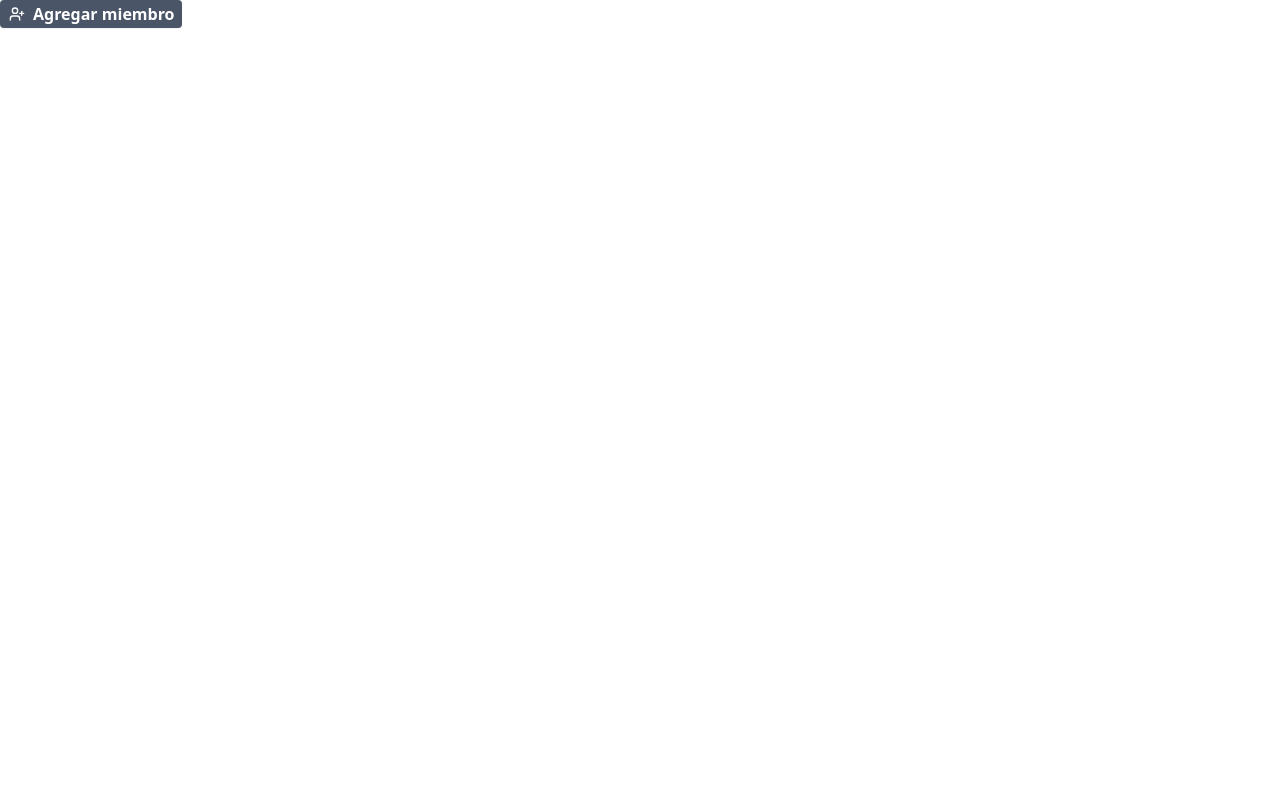
Scenario: AddMemberDialog › closes the modal and refreshes when a member already on the team gets a role update
This screenshot has width=1280, height=800.
Step 1. Click the button "Agregar miembro" → coordinates (91, 14), box [0,0,182,28]
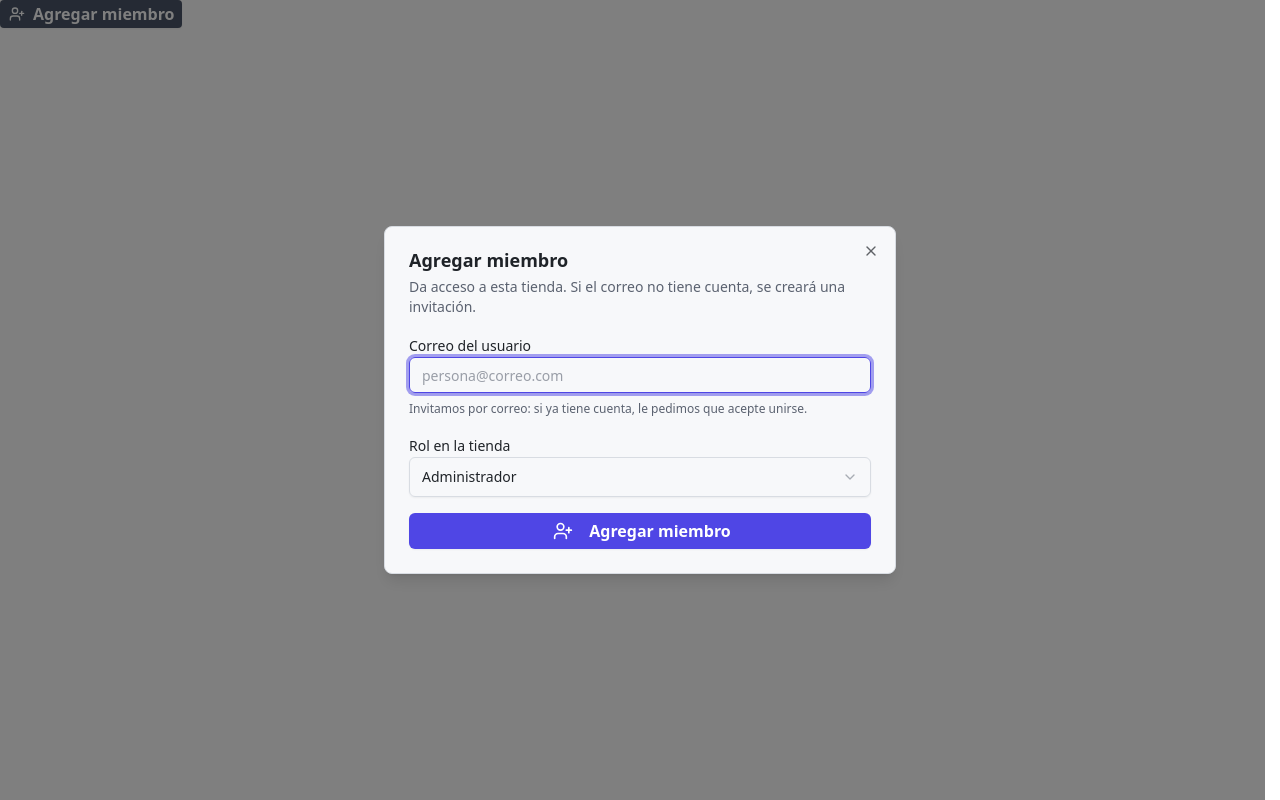
Step 2. Type "nuevo@correo.com" into the field labelled "Correo del usuario" → coordinates (640, 375), box [409,357,871,393]
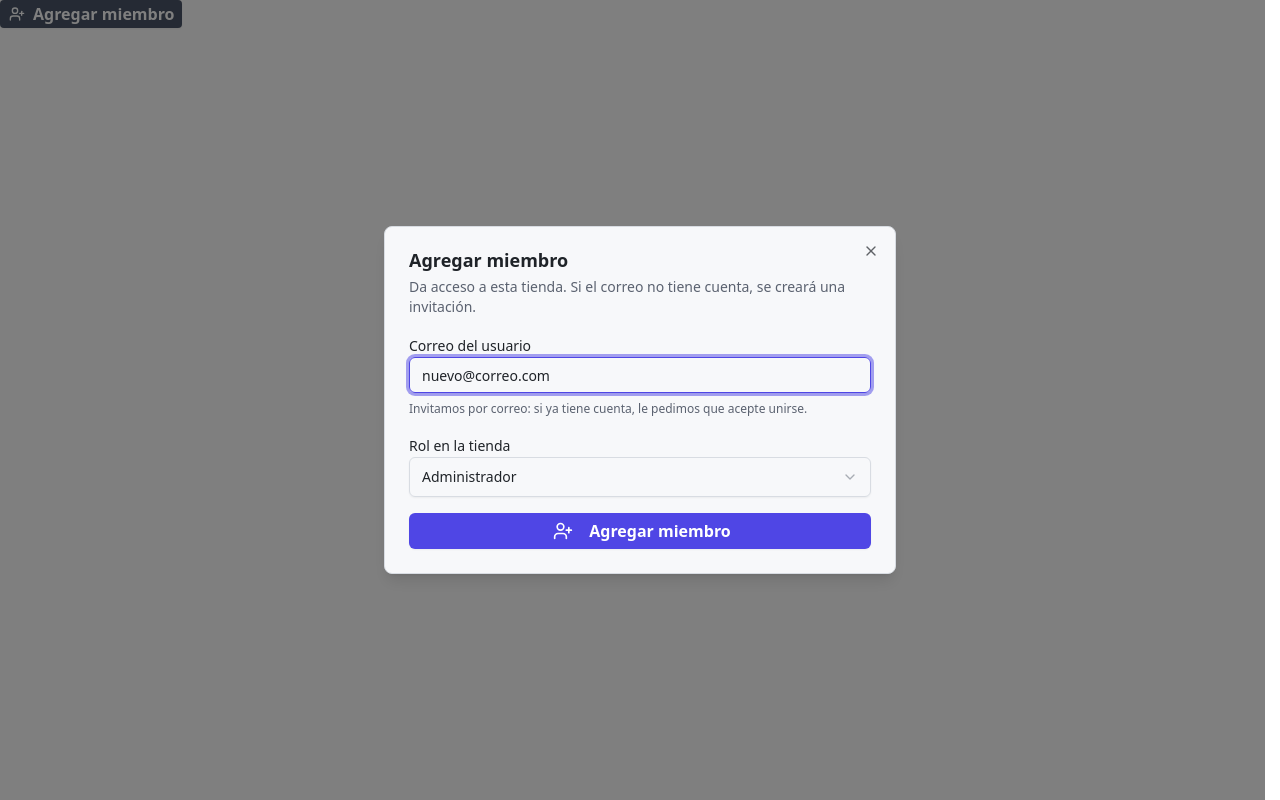
Step 3. Click the button "Agregar miembro" → coordinates (640, 531), box [409,513,871,549]
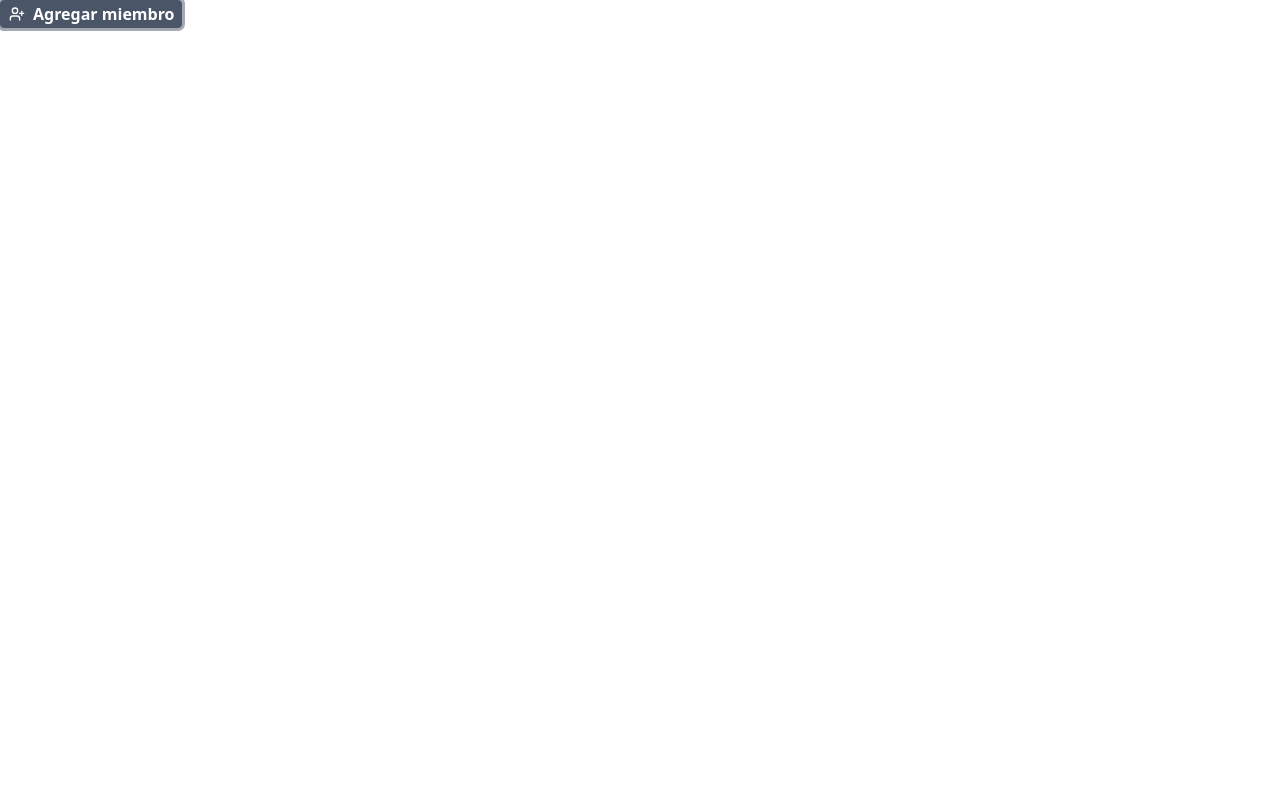
Expected: the dialog is gone
